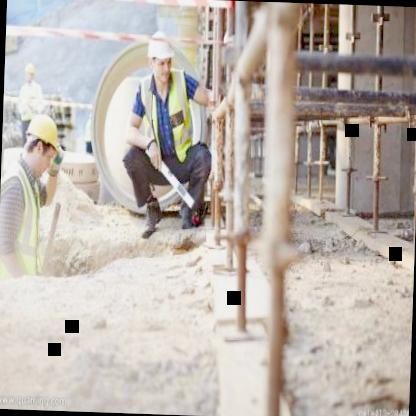helmet: (21, 110, 64, 180), (145, 28, 178, 83), (22, 58, 38, 84)
